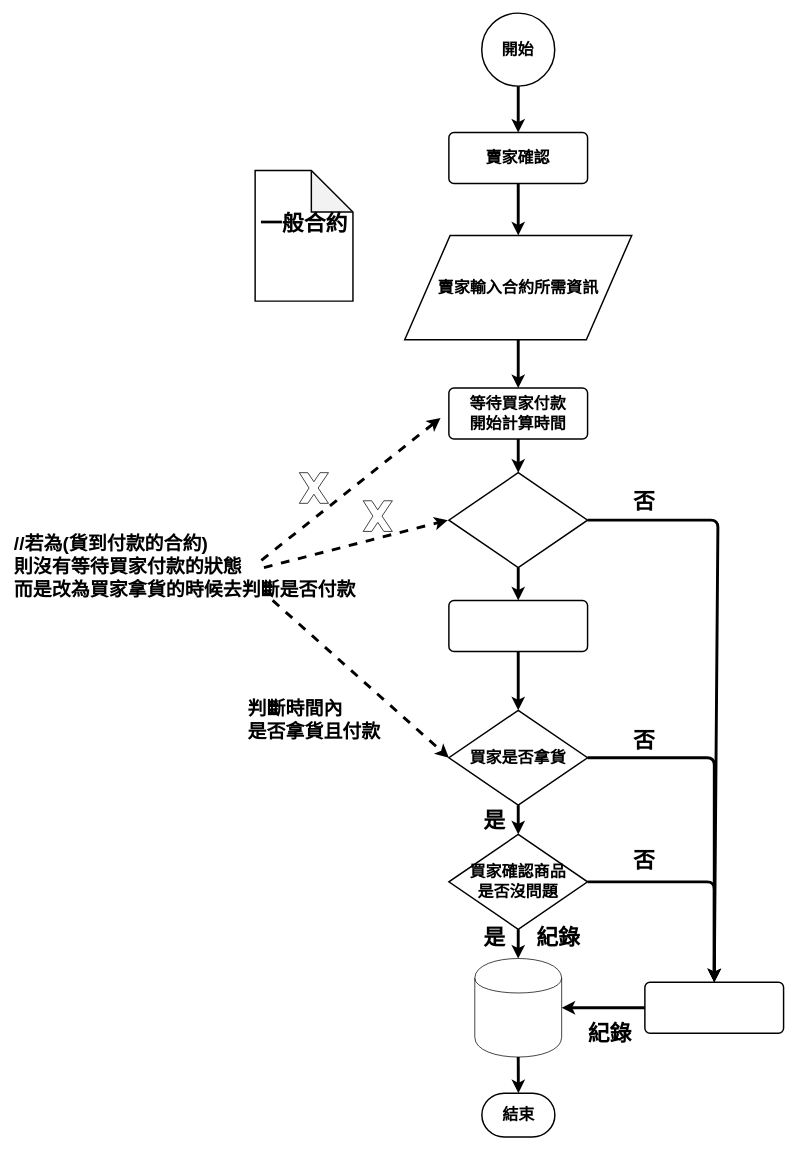
Some shapes in this 796 by 1150 pixel diagram are drawn without their labels. The shapes that lost their labels are listed below. From the top down, each one's box as (x1, y1, x2, y2) in pixels, then its label:
(448, 472, 588, 568): 時間內 買家是否付款
(448, 599, 588, 652): 進入物流作業
(474, 958, 562, 1057): 區塊鏈
(644, 981, 784, 1034): 進入託管合約判斷
